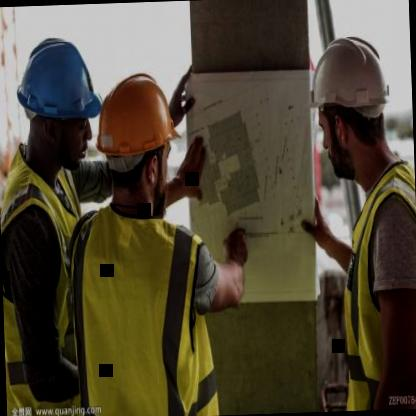helmet: (301, 10, 407, 187), (6, 17, 110, 186), (94, 57, 186, 222)
